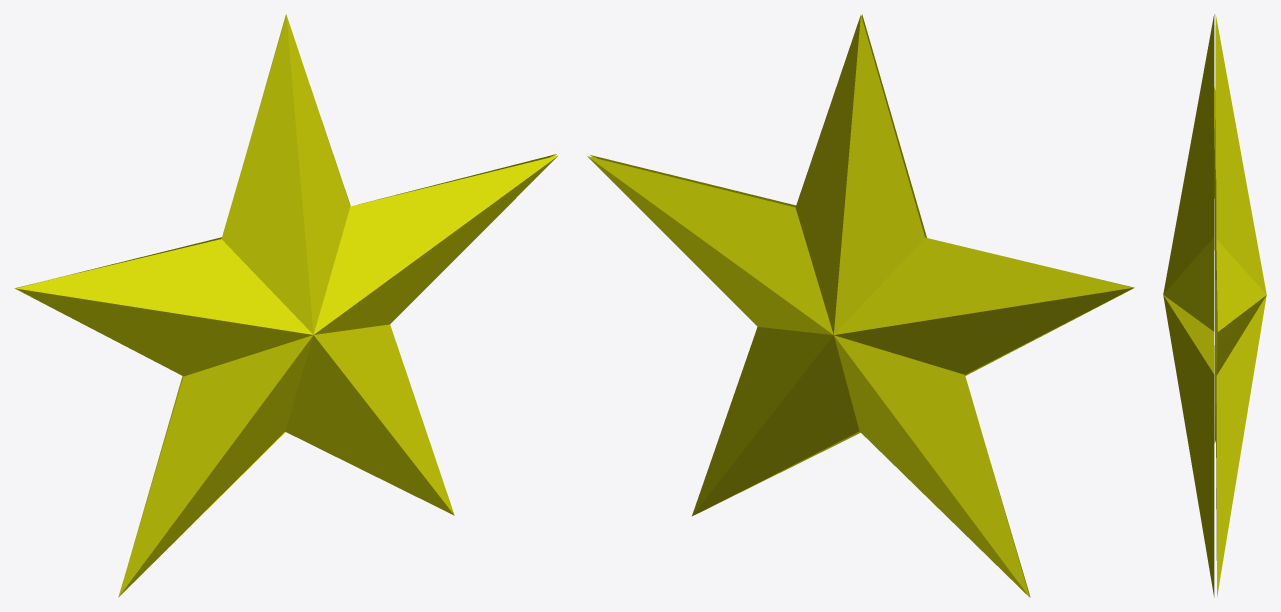
The model's file is star.glb.
3 renders of one model, left to right at view 1: azimuth 30°, elevation 25°; view 2: azimuth 150°, elevation 25°; view 3: azimuth 270°, elevation 25°, orthographic. The views are drawn at different scales.
Visible parts, largest first — view 1: Circle.001_1, Circle_0; view 2: Circle_0, Circle.001_1; view 3: Circle_0, Circle.001_1.
Part boxes in pixels (bbox=[...]): Circle.001_1: bbox=[14, 15, 558, 597]; Circle_0: bbox=[15, 14, 556, 582]; Circle_0: bbox=[587, 15, 1133, 597]; Circle.001_1: bbox=[590, 14, 1134, 597]; Circle_0: bbox=[1214, 14, 1266, 596]; Circle.001_1: bbox=[1163, 14, 1214, 597].
Bounding box in the file's own units: 3.23 × 3.07 × 0.567.
